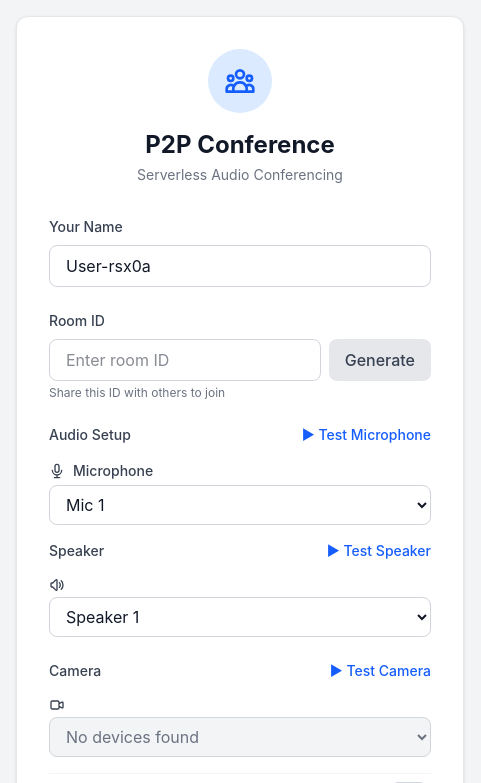
Scenario: LobbyView › hides security warning when room ID is 8 or more characters
The image size is (481, 783).
# First show warning with short ID
Type "abc" into the field with placeholder "Enter room ID".
click(185, 360); type("abc")  # box [49,339,321,381]
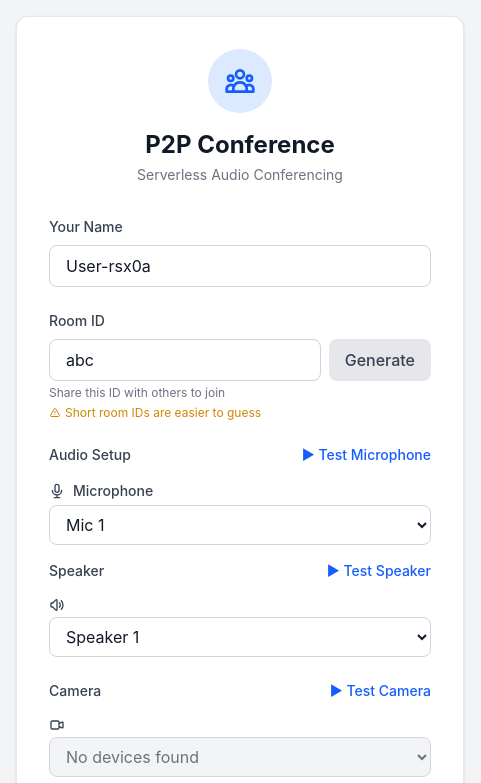
Check: the text "Short room IDs are easier to guess" is shown, box [49,405,261,420]
# Then hide with longer ID
Replace the text in the 2nd field with placeholder "Enter room ID" with "abcdefgh" at (185, 360), box [49,339,321,381]
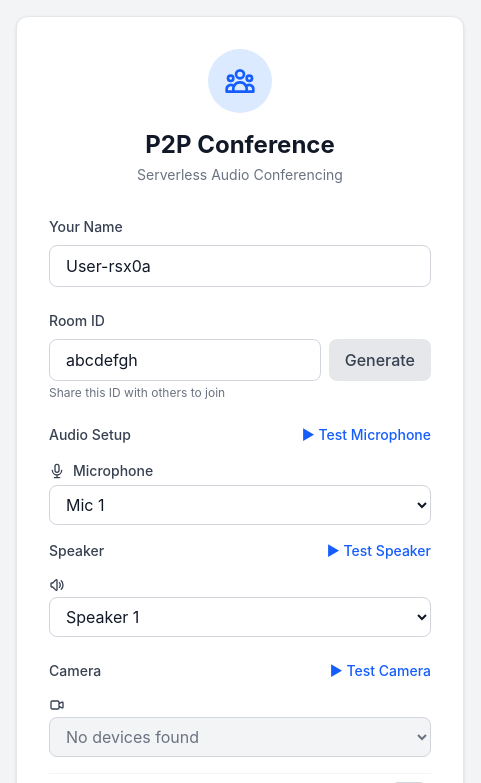
Check: the text "Short room IDs are easier to guess" is gone
